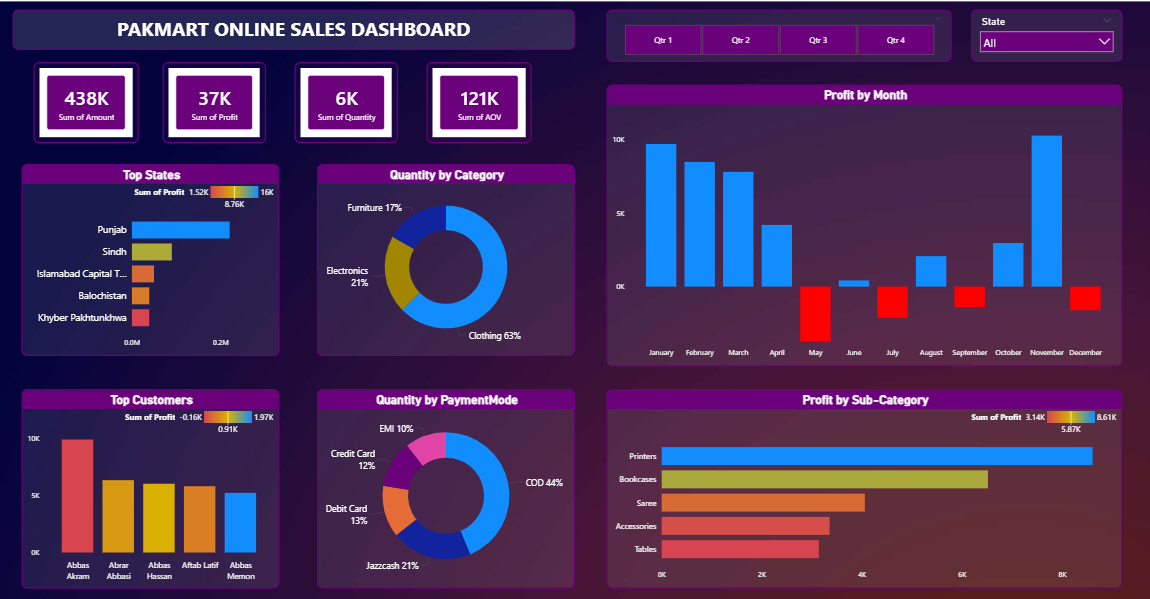

The page's visual inventory and layout, read from the dashboard file:
{"tool":"powerbi","page":{"name":"Page 1","canvas":[2100,1250],"ordinal":0},"visuals":[{"type":"textbox","box":[112.5,132.5,937.5,67.5],"z":0},{"type":"columnChart","title":"Profit by Month","fields":{"Category":["Orders_Pakistan.Order Date.Variation.Date Hierarchy.Month"],"Y":["Details.Profit"]},"box":[1102.5,257.5,860,470],"z":1000},{"type":"barChart","title":"Profit by Sub-Category","fields":{"Category":["Details.Sub-Category"],"Y":["Details.Profit"]},"box":[1102.5,765,860,332.5],"z":2000},{"type":"donutChart","title":"Quantity by Category","fields":{"Category":["Details.Category"],"Y":["Details.Quantity"]},"box":[620,390,430,320],"z":3000},{"type":"donutChart","title":"Quantity by PaymentMode","fields":{"Y":["Details.Quantity"],"Category":["Details.PaymentMode"]},"box":[620,765,430,332.5],"z":4000},{"type":"cardVisual","fields":{"Data":["Details.Amount"]},"box":[147.5,220,175,135],"z":5000},{"type":"cardVisual","fields":{"Data":["Details.Profit"]},"box":[362.5,220,172.5,135],"z":6000},{"type":"cardVisual","fields":{"Data":["Details.Quantity"]},"box":[582.5,220,172.5,135],"z":7000},{"type":"cardVisual","fields":{"Data":["Details.AOV"]},"box":[802.5,220,175,135],"z":8000},{"type":"barChart","title":"Top States","fields":{"Category":["Orders_Pakistan.State"],"Y":["Details.Amount"]},"box":[127.5,390,430,320],"z":9000},{"type":"columnChart","title":"Top Customers","fields":{"Category":["Orders_Pakistan.CustomerName"],"Y":["Details.Amount"]},"box":[127.5,765,430,332.5],"z":10000},{"type":"slicer","fields":{"Values":["Orders_Pakistan.Order Date.Variation.Date Hierarchy.Quarter"]},"box":[1102.5,132.5,575,87.5],"z":11000},{"type":"slicer","fields":{"Values":["Orders_Pakistan.State"]},"box":[1710,132.5,252.5,87.5],"z":12000}]}

Visuals, with their boxes on the page's 2100x1250 design canvas (x1, y1, x2, y2). These are canvas units, not pixel positions in the 1150x599 screenshot, which may show the page scaled, cropped or inside an application window:
textbox: 112/132/1050/200
"Profit by Month" columnChart: 1102/258/1962/728
"Profit by Sub-Category" barChart: 1102/765/1962/1098
"Quantity by Category" donutChart: 620/390/1050/710
"Quantity by PaymentMode" donutChart: 620/765/1050/1098
cardVisual - Details.Amount: 148/220/322/355
cardVisual - Details.Profit: 362/220/535/355
cardVisual - Details.Quantity: 582/220/755/355
cardVisual - Details.AOV: 802/220/978/355
"Top States" barChart: 128/390/558/710
"Top Customers" columnChart: 128/765/558/1098
slicer - Orders_Pakistan.Order Date.Variation.Date Hierarchy.Quarter: 1102/132/1678/220
slicer - Orders_Pakistan.State: 1710/132/1962/220
